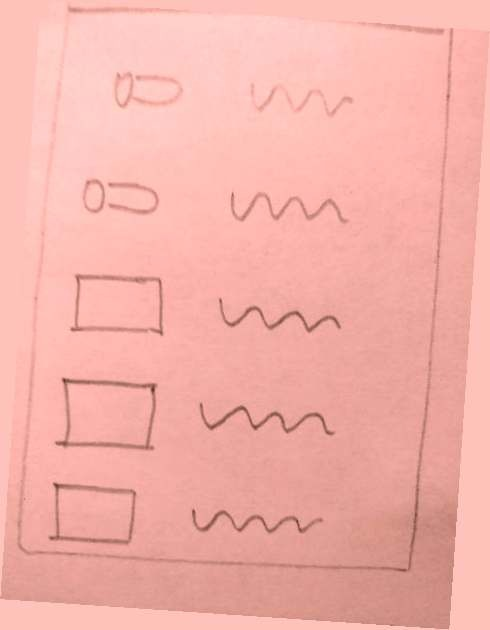switch: (100, 61, 189, 118), (75, 167, 163, 224)
text: (179, 490, 331, 546), (190, 392, 341, 448), (212, 286, 345, 342), (223, 180, 352, 234), (238, 76, 357, 123)
text_input: (49, 371, 165, 456), (61, 268, 179, 345), (40, 477, 140, 552)
